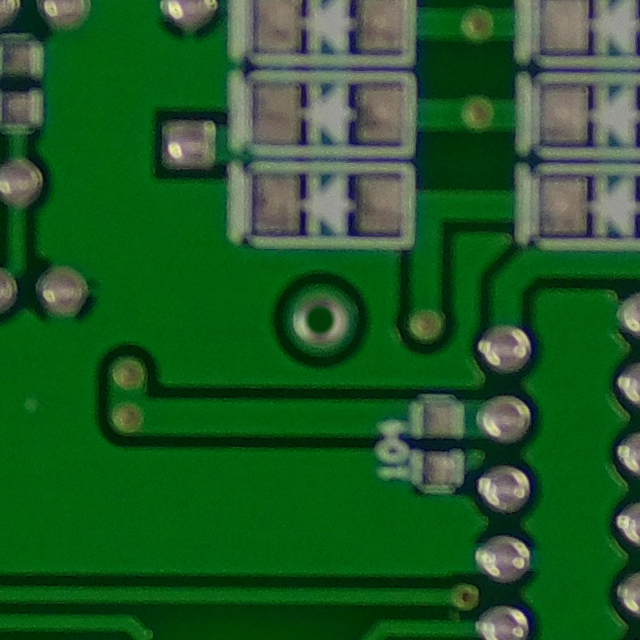missing_hole: (288, 287, 352, 353)
